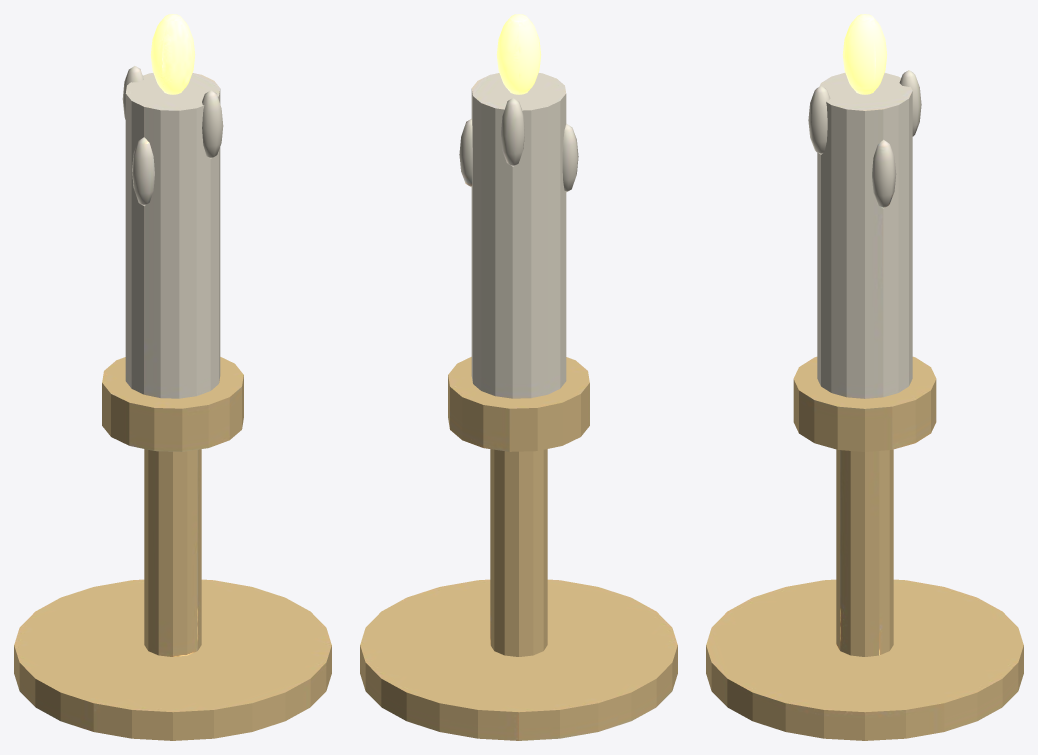
Rendered from candle.glb.
3 views of the same model, side by side, from view 1: azimuth 30°, elevation 25°; view 2: azimuth 150°, elevation 25°; view 3: azimuth 270°, elevation 25° (orthographic).
Visible parts, largest first — view 1: candle; view 2: candle; view 3: candle.
Part boxes in pixels (x1,y1,x2,y2): candle: (14,14,331,740); candle: (360,14,677,740); candle: (706,14,1023,740).
Size of the model in its own units: 2 by 4.58 by 2.
Materials: 1 (1 with a texture image).
